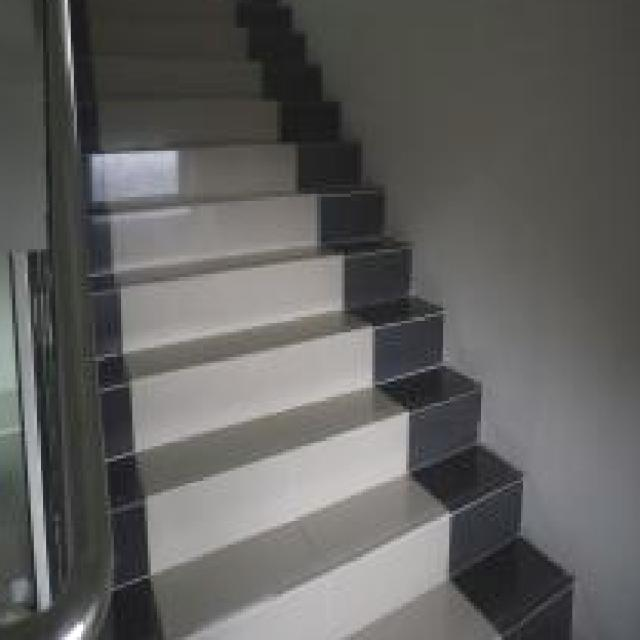upstair: (62, 228, 567, 640)
